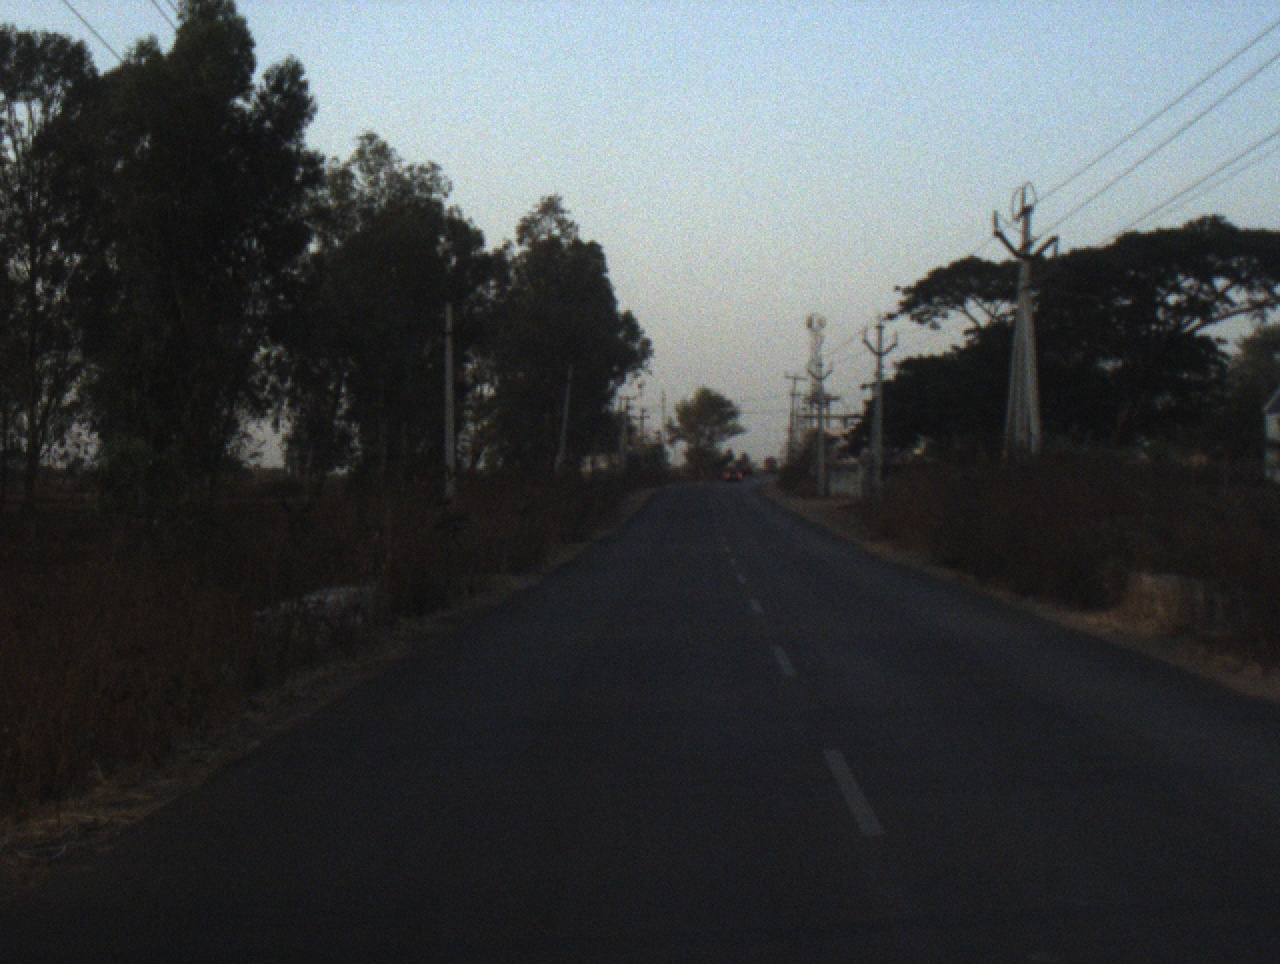car: (721, 461, 747, 486)
truck: (759, 450, 778, 481)
